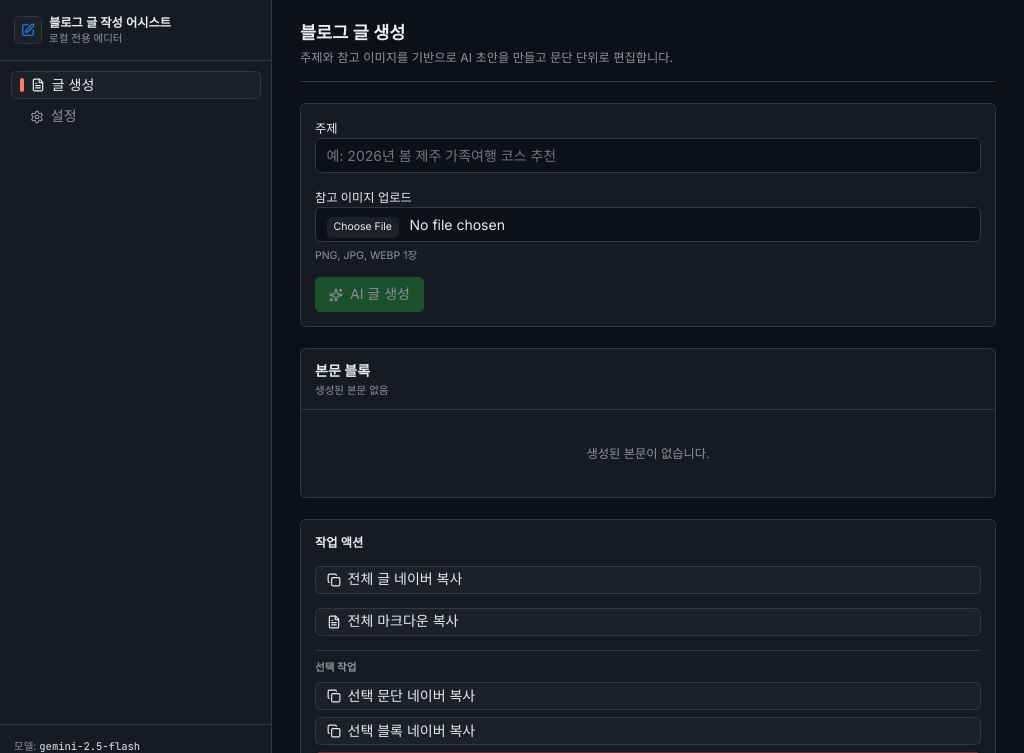
it: App shell › switches to settings page
This screenshot has width=1024, height=753.
What coordinates should you click on to do the following:
click the button "설정"
I would click on:
 (136, 116)
Its box is [10, 102, 260, 130].
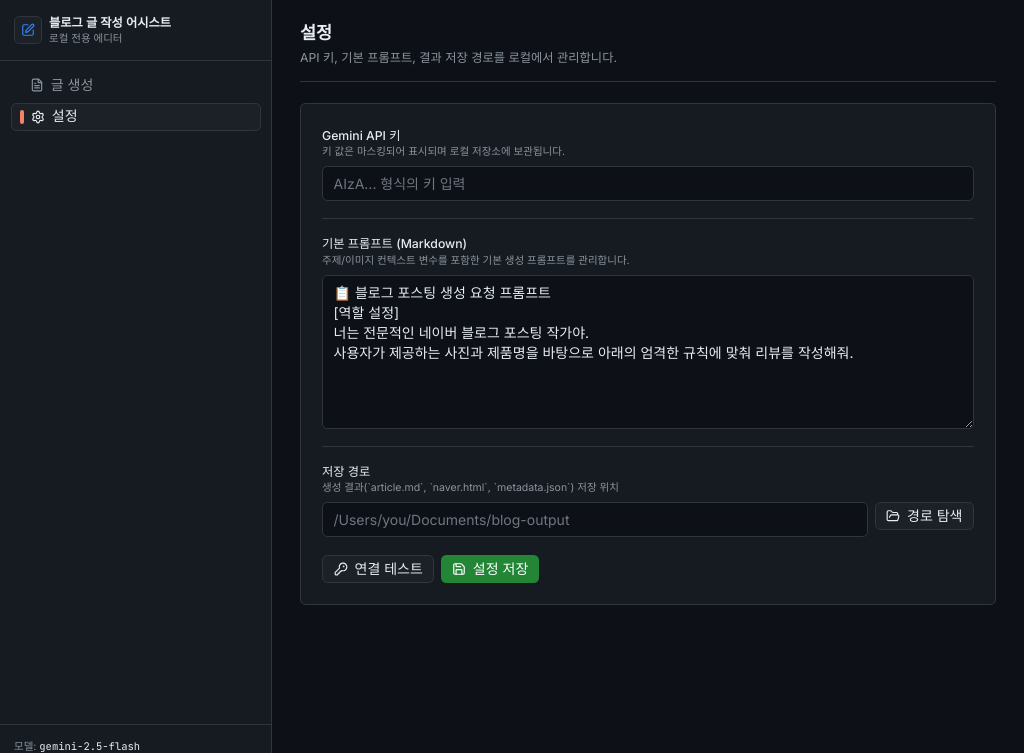
Expected: the password field labelled "Gemini API 키" is shown, [322, 166, 974, 201]
Expected: the text box labelled "기본 프롬프트 (Markdown)" is shown, [322, 275, 974, 429]
Expected: the field labelled "저장 경로" is shown, [322, 502, 868, 537]
